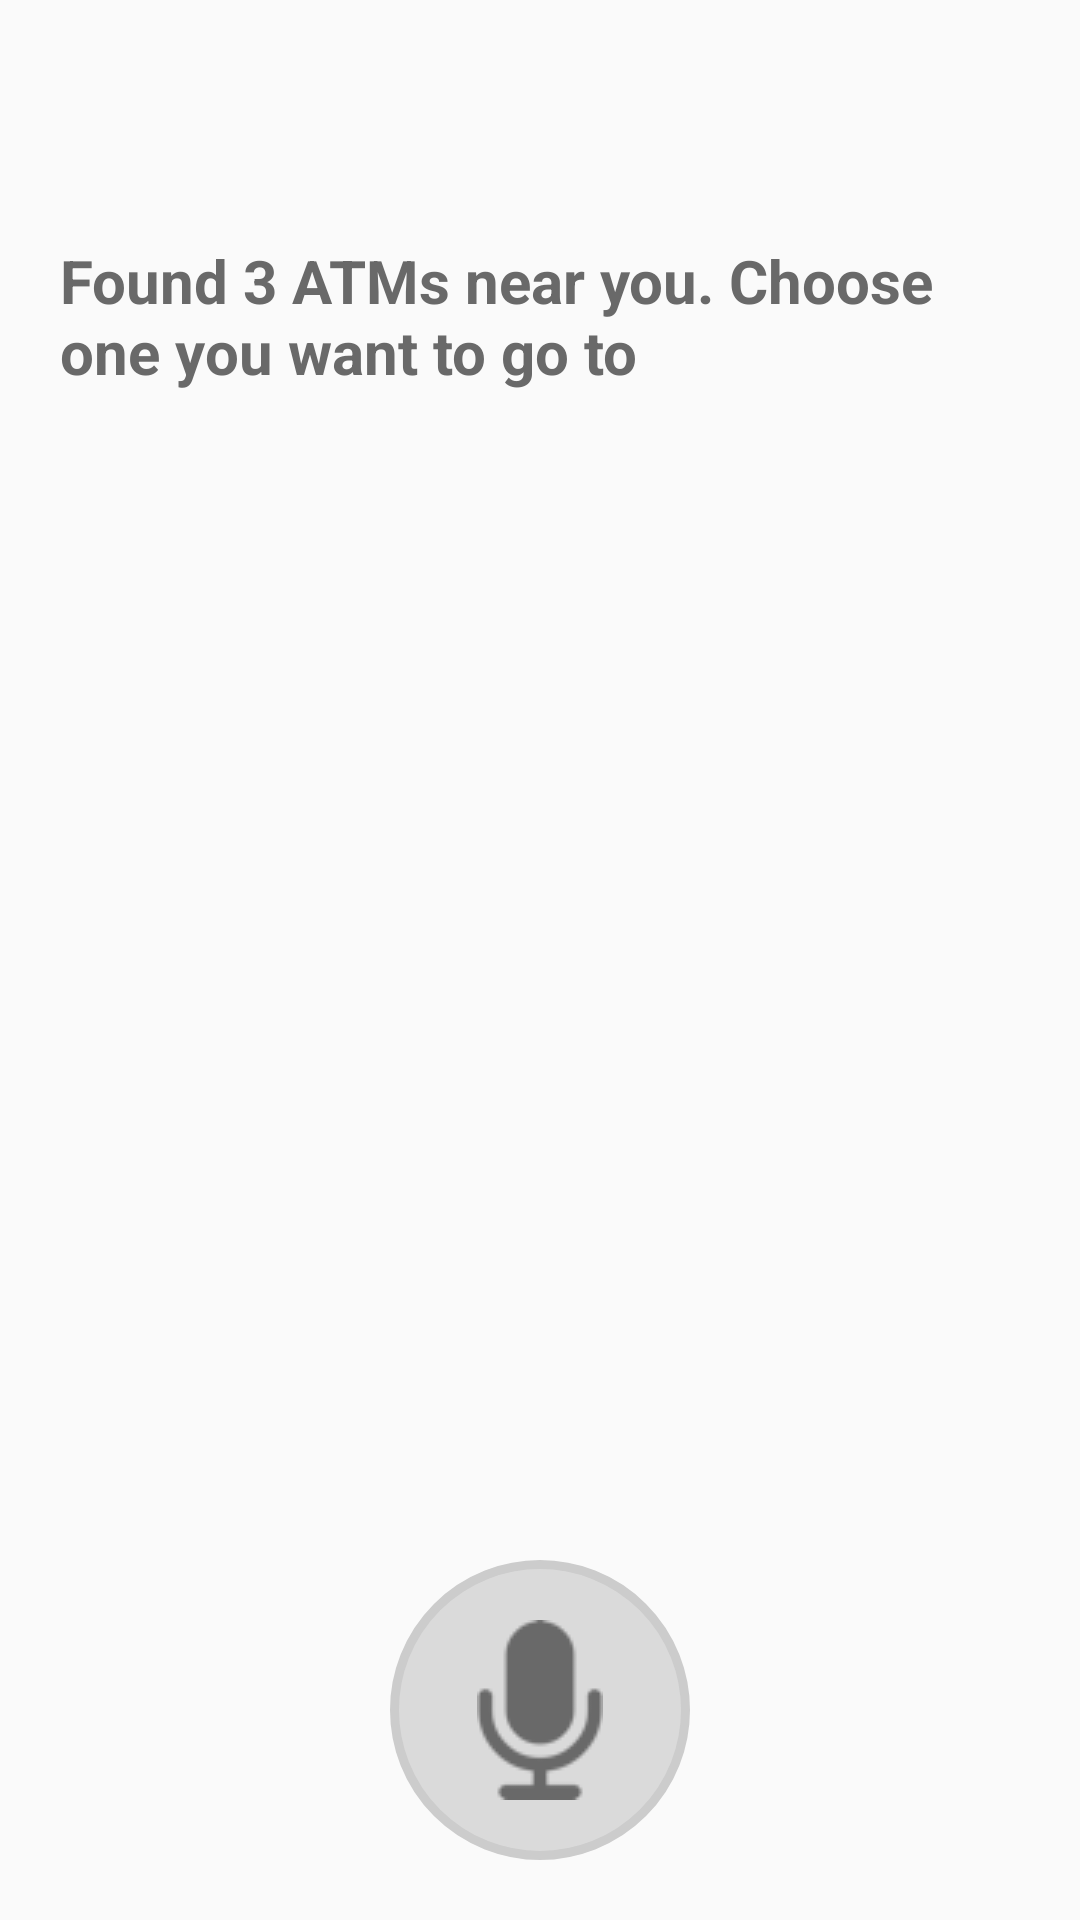

Screen size 1080 × 1920. Icon name, then its center in pixels as [x,y]:
microphone shape: [540,1710]
